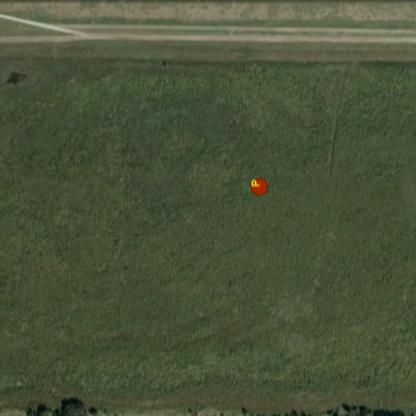P: (250, 178, 261, 188)
circle: (252, 178, 268, 196)
